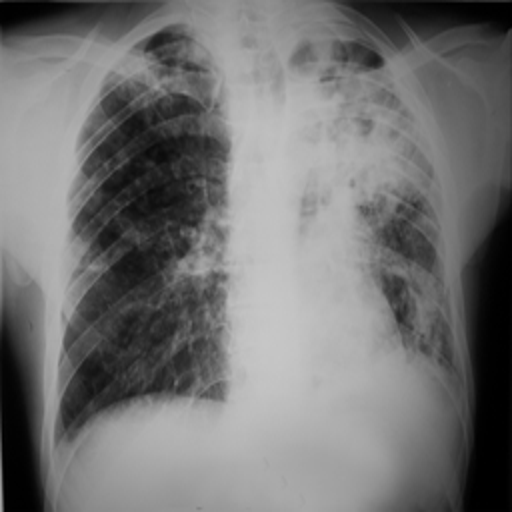TB: (303, 41, 418, 220), (88, 40, 196, 127), (406, 256, 458, 364)
